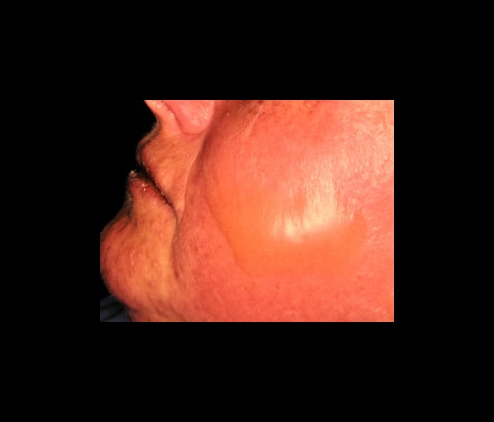SJS-TEN: (199, 138, 403, 324)
